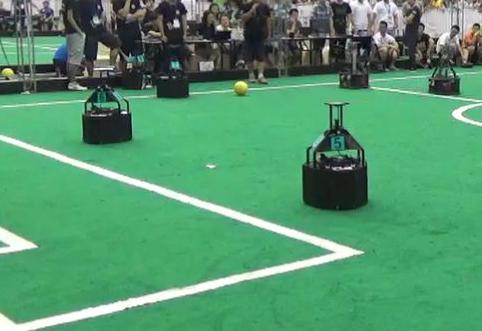robot: (299, 99, 372, 214), (80, 66, 134, 144)
